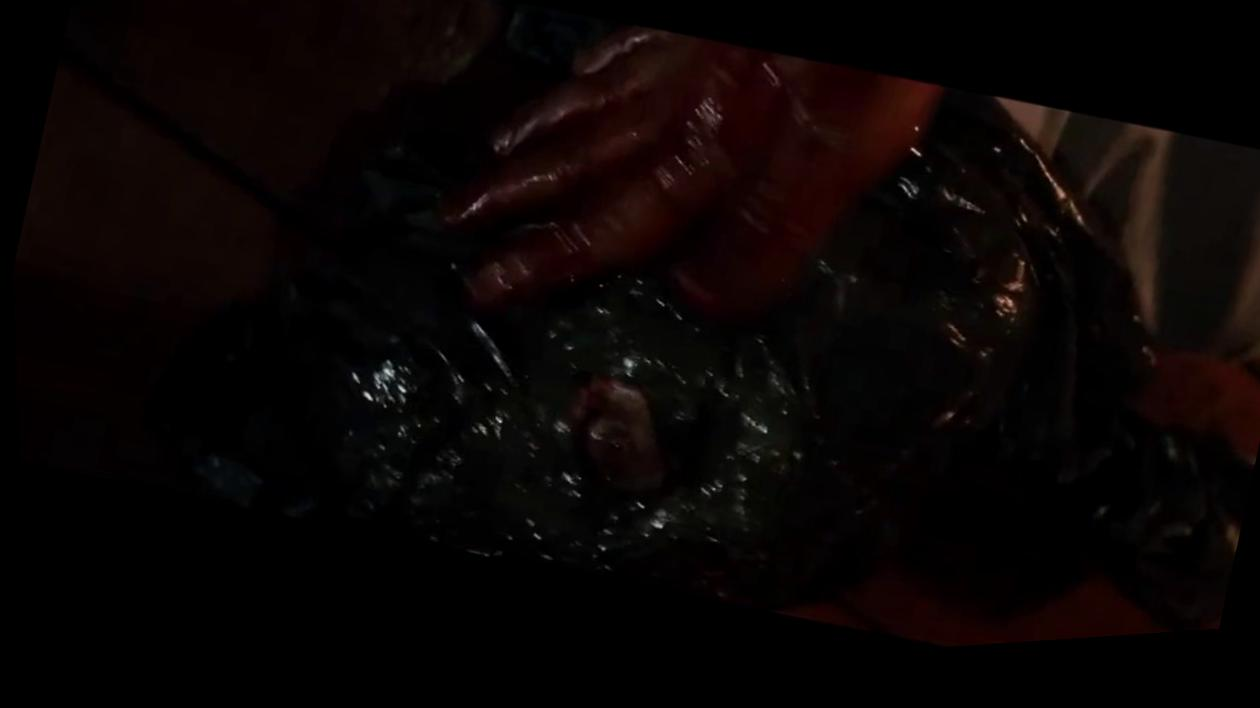Fire: (433, 37, 943, 335)
